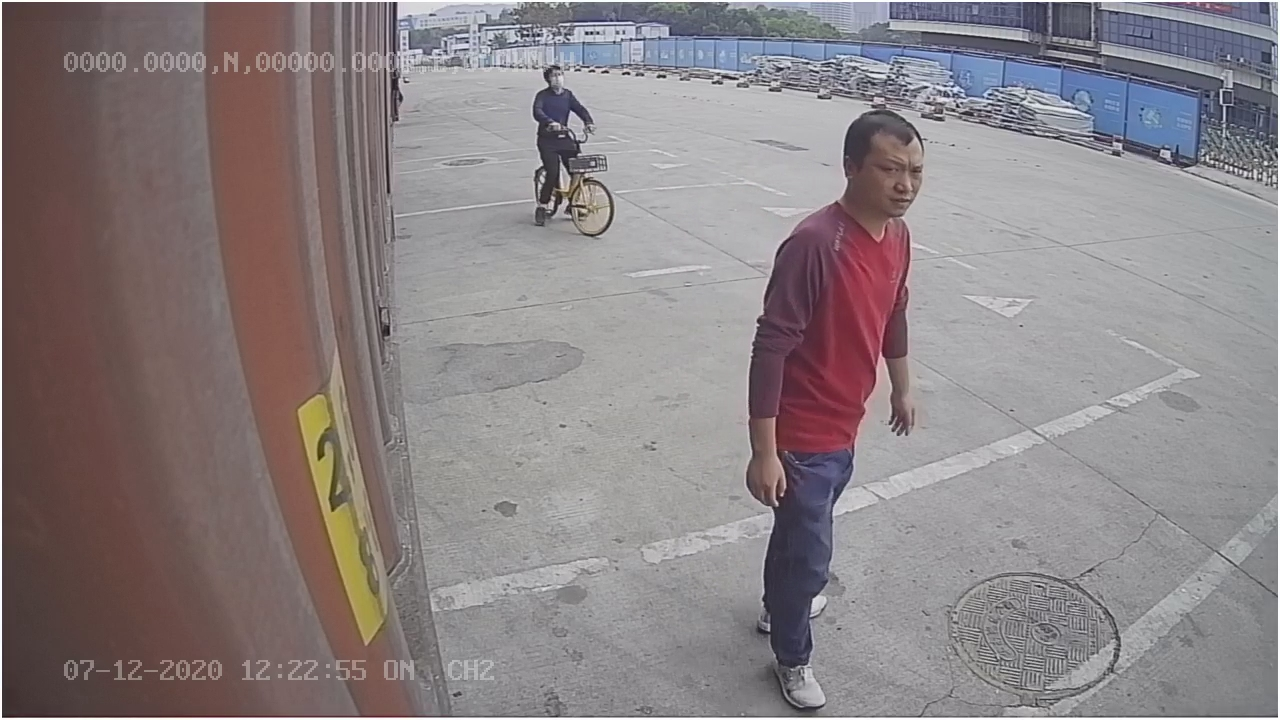person: (742, 102, 922, 712)
